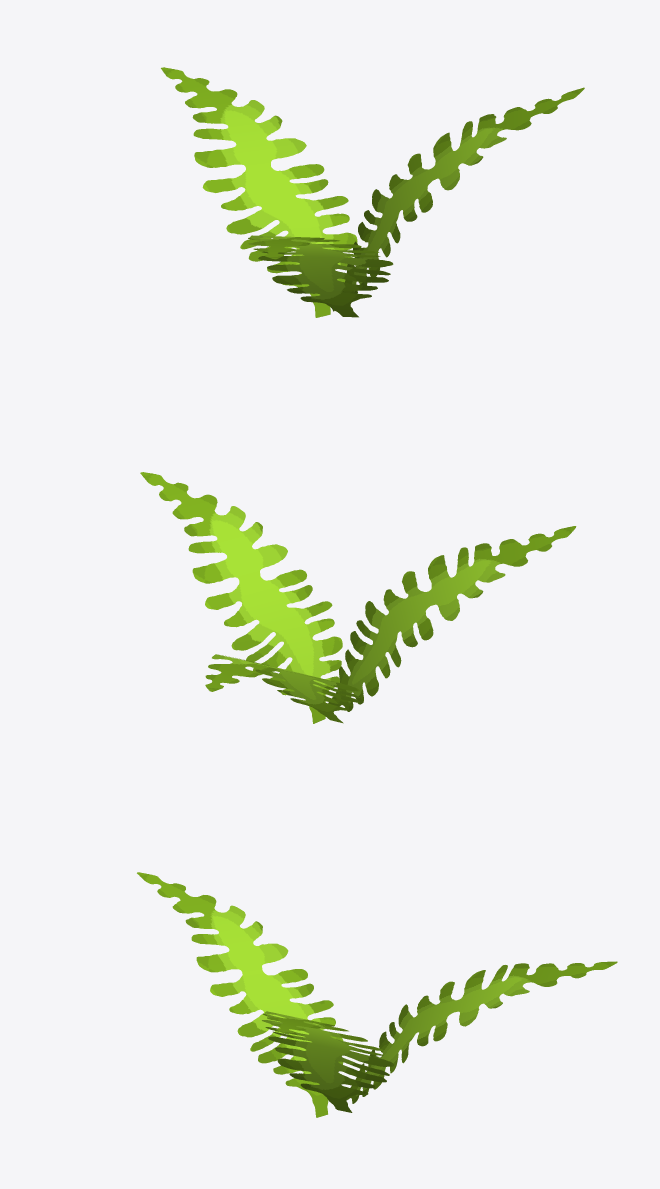
File: Grass 07_preview_3DS_simplified.glb
3 views of the same model, one above another, from view 1: azimuth 30°, elevation 25°; view 2: azimuth 150°, elevation 25°; view 3: azimuth 270°, elevation 25° (orthographic). The views are drawn at different scales.
Visible parts, largest first — view 1: Marine Park Empire model; view 2: Marine Park Empire model; view 3: Marine Park Empire model.
Boxes of the visible parts, bbox=[...] form: Marine Park Empire model: bbox=[161, 67, 584, 317]; Marine Park Empire model: bbox=[140, 472, 576, 723]; Marine Park Empire model: bbox=[137, 872, 617, 1117].
Bounding box in the file's own units: 72.88 × 26.43 × 71.24.
1 material, 1 textured.
